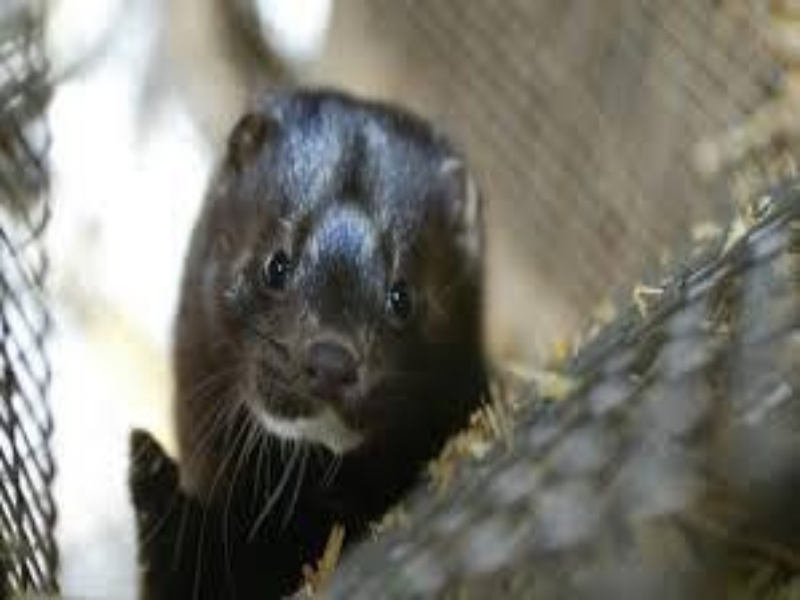minkish: (126, 80, 486, 596)
